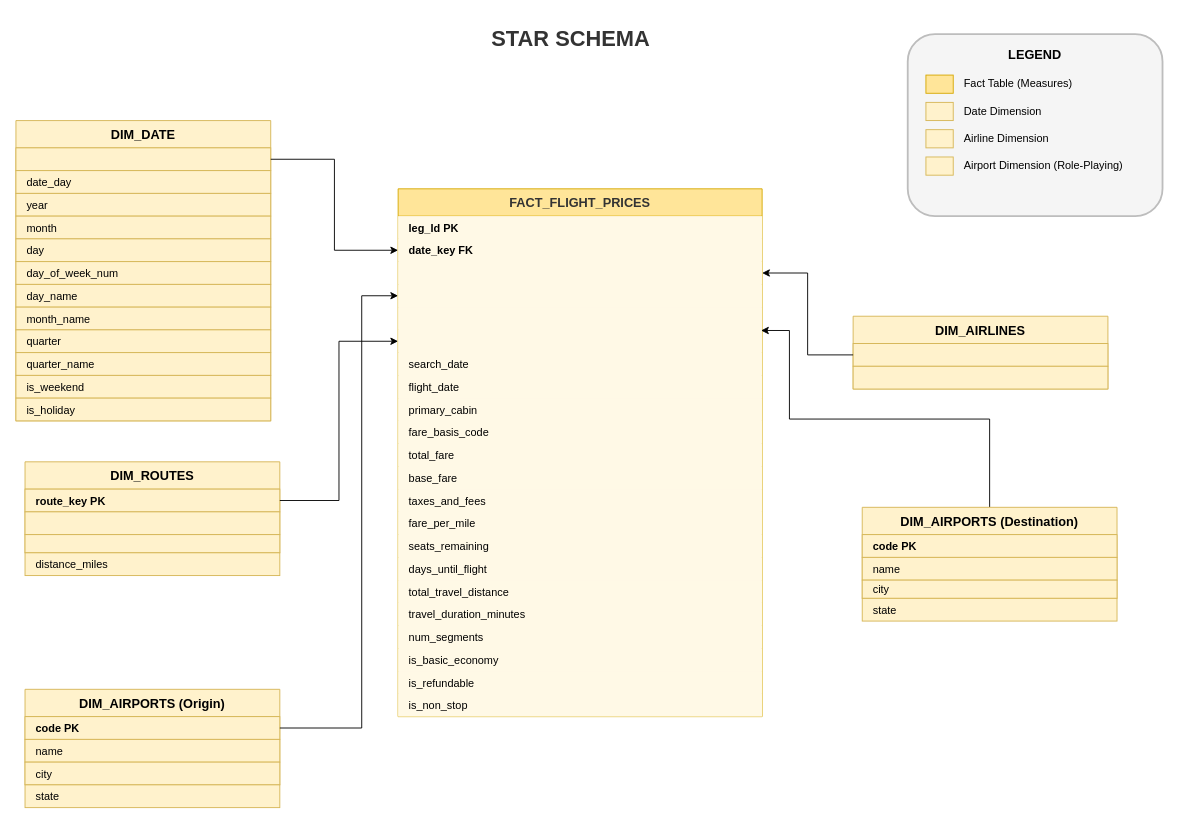
The diagram is 1179 pixels wide and 824 high, and some of its shapes have lost their labels. The shapes that lost their labels are listed below. From the top down, each one's centre as x and y in pixels, then its label:
(x=143, y=159): date_key PK
(x=580, y=272): airline_key FK
(x=580, y=295): origin_airport_key FK
(x=580, y=318): dest_airport_key FK
(x=580, y=340): route_key FK
(x=980, y=354): airline_code PK
(x=980, y=377): airline_name
(x=152, y=523): origin_airport
(x=152, y=543): dest_airport
